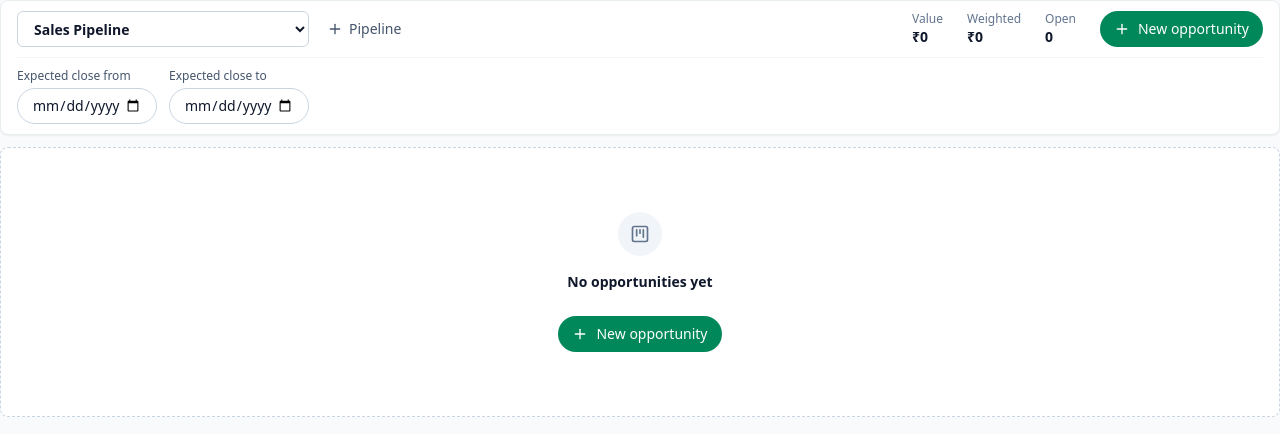
Test: choosing and configuring pipelines › switches the board between the workspace's pipelines and offers settings only where allowed
Expected: the button "Pipeline settings" is not shown
Select "Government Tender · Priya Patel" in the dropdown named "Pipeline" at point(163, 29), box [17,11,309,47]
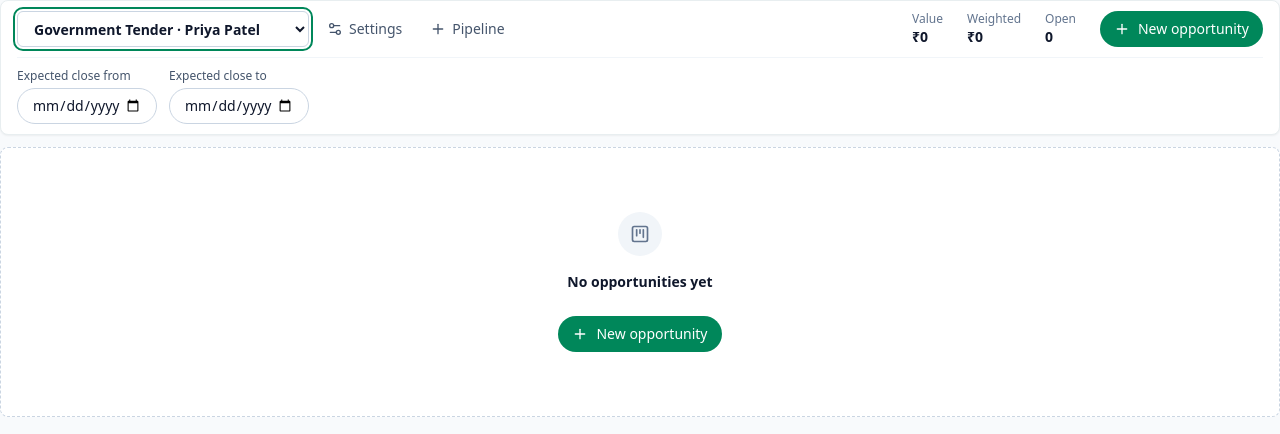
Result: the button with aria-label "Pipeline settings" is shown at [317,13,412,45]
